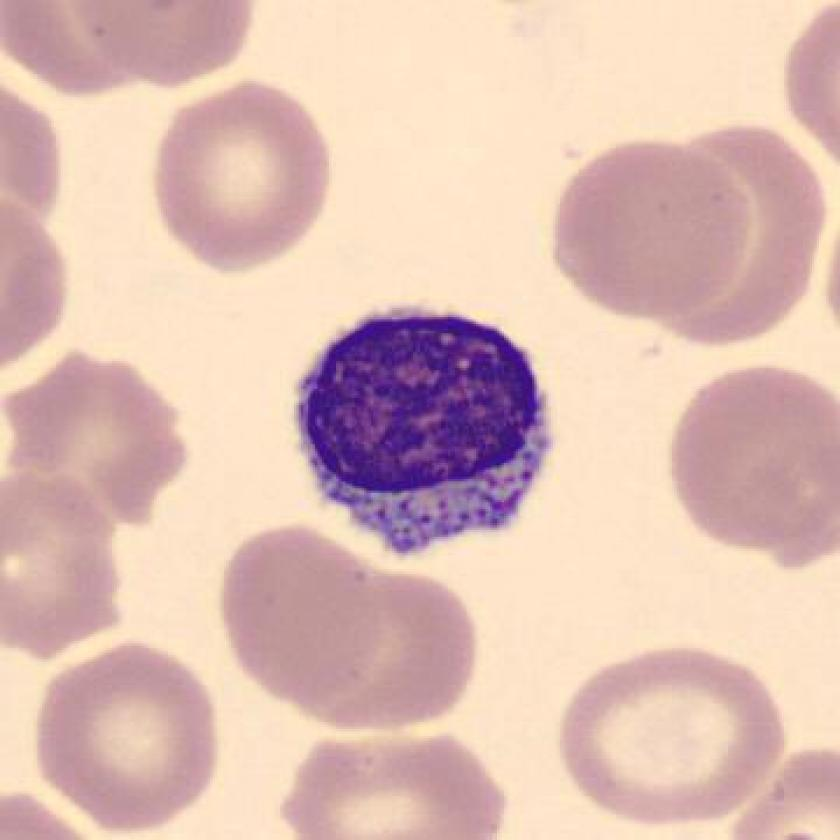lymphocyte: (276, 295, 561, 570)
